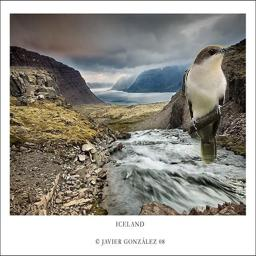Cuckoo: (185, 45, 236, 166)
